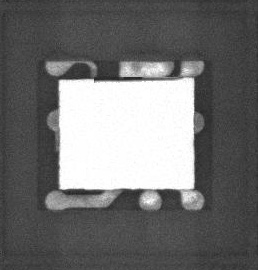DIE_BROKEN: (93, 75, 177, 85)
